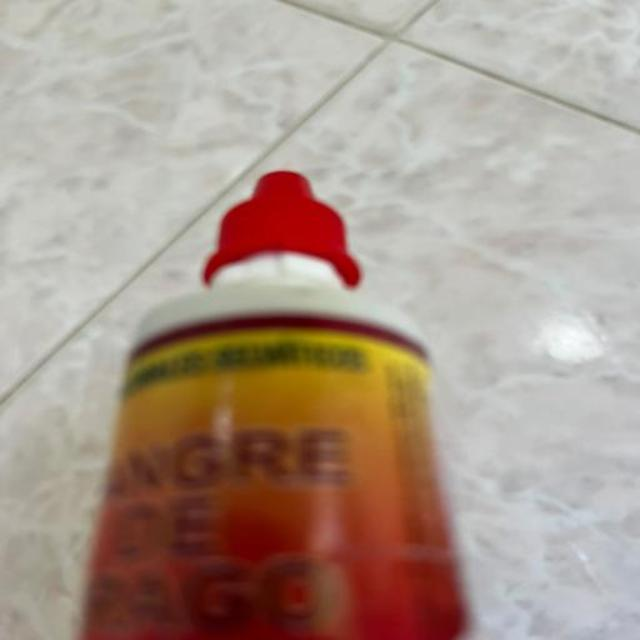HDPE: (68, 158, 582, 640)
